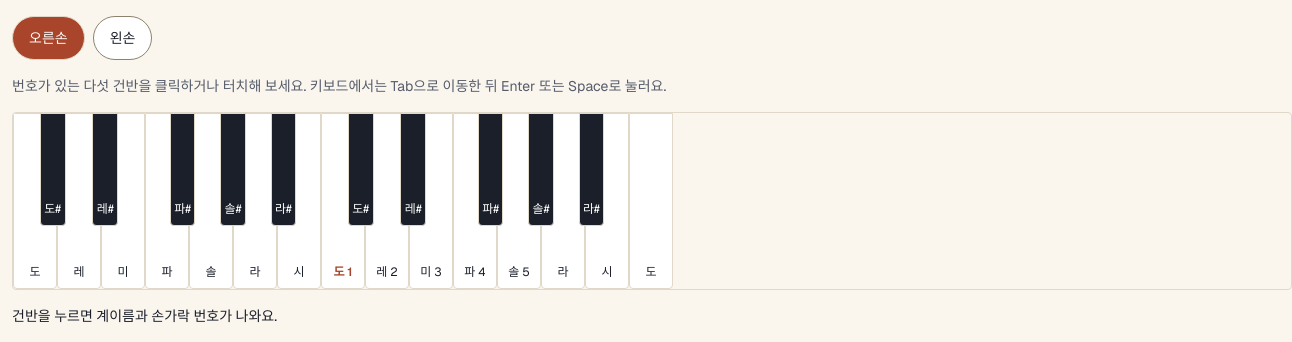
Test case: describes an unnumbered key without inventing a finger assignment
The width and height of the screenshot is (1292, 342).
Click the button named "도 (5옥타브)". click: point(651, 201)
box: [629, 113, 673, 289]
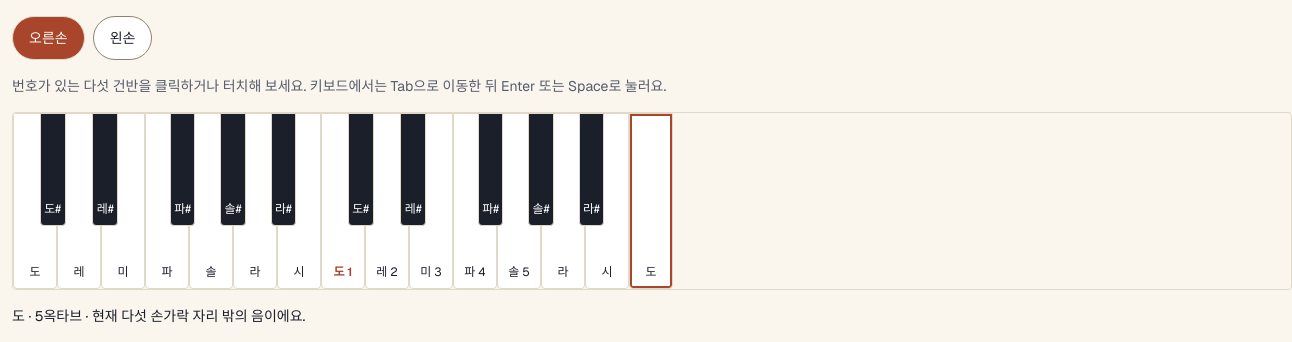
Expected: the message named "누른 건반" reads "도 · 5옥타브 · 현재 다섯 손가락 자리 밖의 음이에요.", [12, 307, 305, 325]
